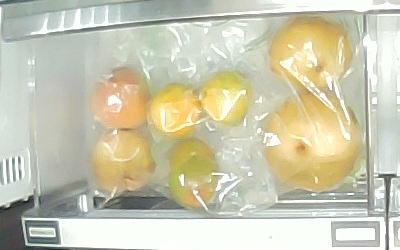peach_vinyl: (91, 129, 156, 194), (91, 68, 153, 132)
pear_vinyl: (263, 91, 362, 194), (269, 17, 353, 89)
tangerine_vinyl: (199, 70, 252, 127), (148, 84, 201, 139)
tomato_vinyl: (169, 157, 219, 210), (167, 138, 216, 167)
